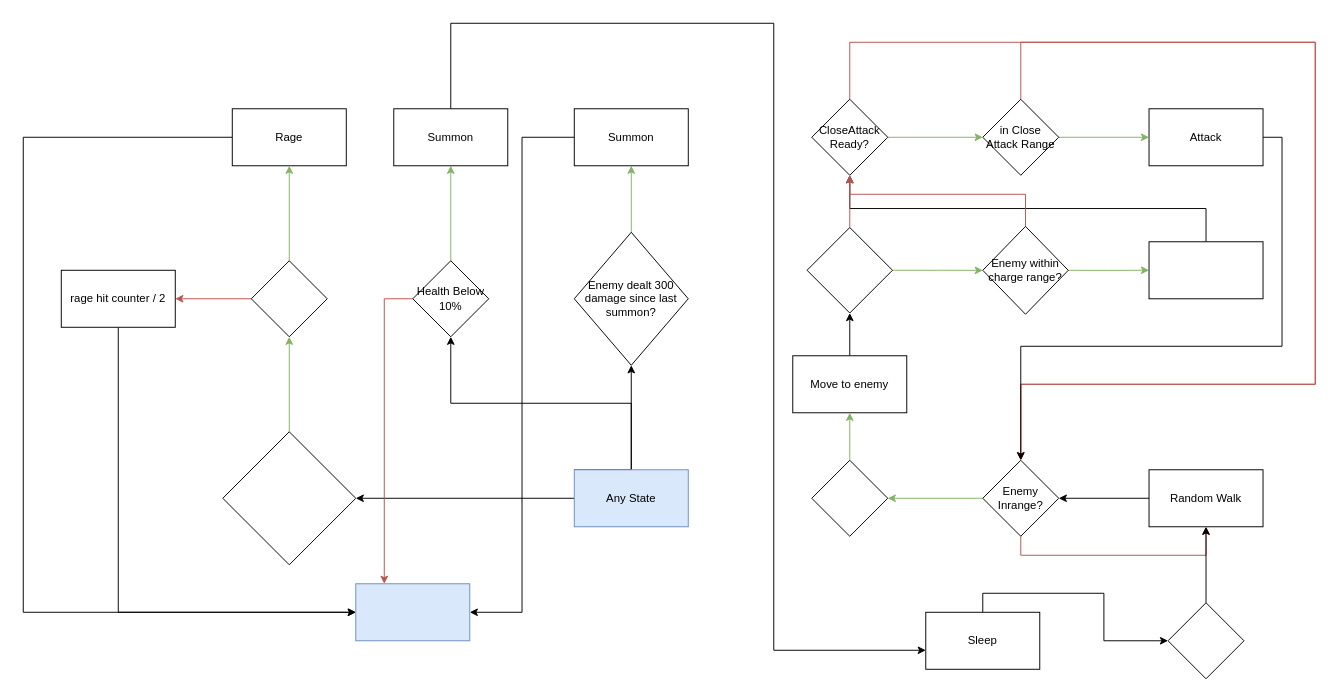
The diagram is 1340 pixels wide and 695 high, and some of its shapes have lost their labels. The centre of each missing label's shape, as x and y in pixels:
Any attack ready?: the point at 849,497
Attacked?: the point at 1205,640
Charge: the point at 1205,270
Charge ready: the point at 849,270
Enemy Dealt 1500 damage since last rage: the point at 289,498
Go Back to Last State: the point at 412,612
In rage: the point at 288,298
